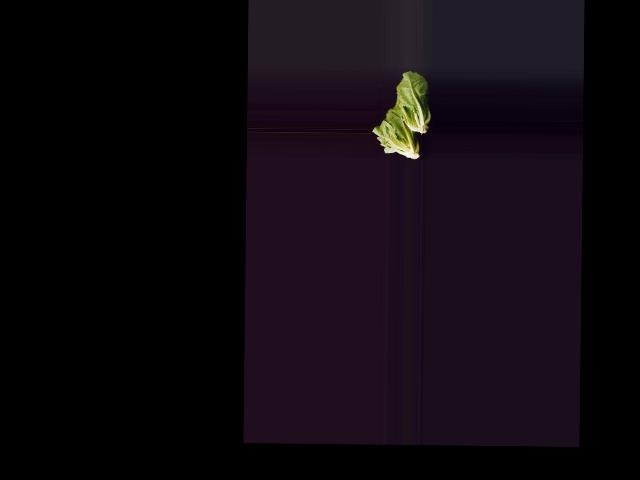lettuce: (373, 97, 426, 159)
